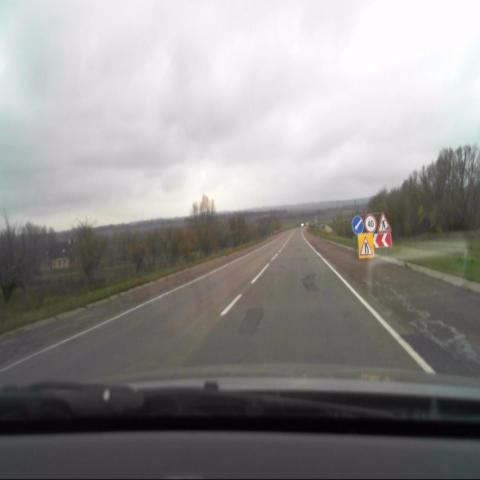1_25: (378, 210, 391, 233)
4_2_2: (352, 215, 364, 234)
